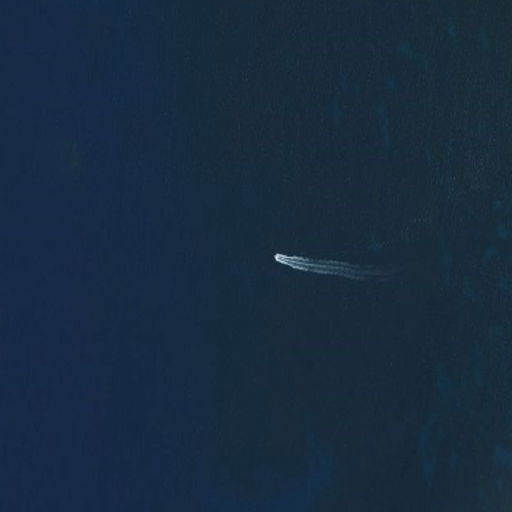ship: (272, 252, 284, 263)
